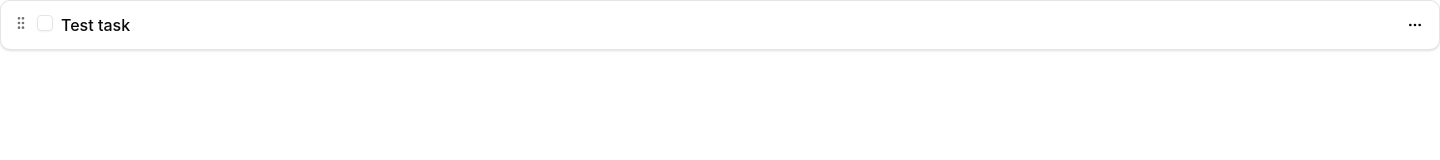
Test: TaskPanel › toggles actions menu on click
This screenshot has width=1440, height=160.
Click the button with test id "task-actions-toggle-1" at (1415, 25), box [1403,13,1427,37]
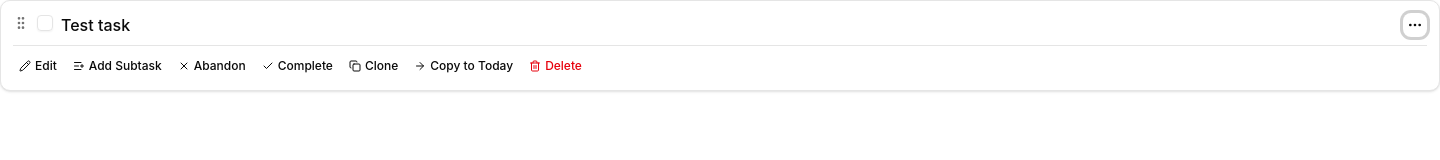
Now the element with test id "task-actions-1" is shown, box [13,45,1427,78]
